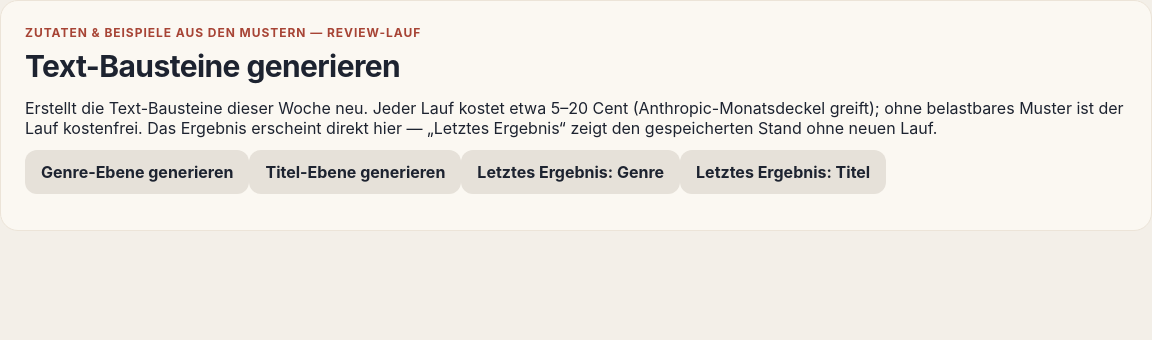
Test: BriefingSection › erklaert den kostenfreien Leerlauf ohne Muster
The image size is (1152, 340).
Click the button "Genre-Ebene generieren": click(137, 172) [25,150,250,194]
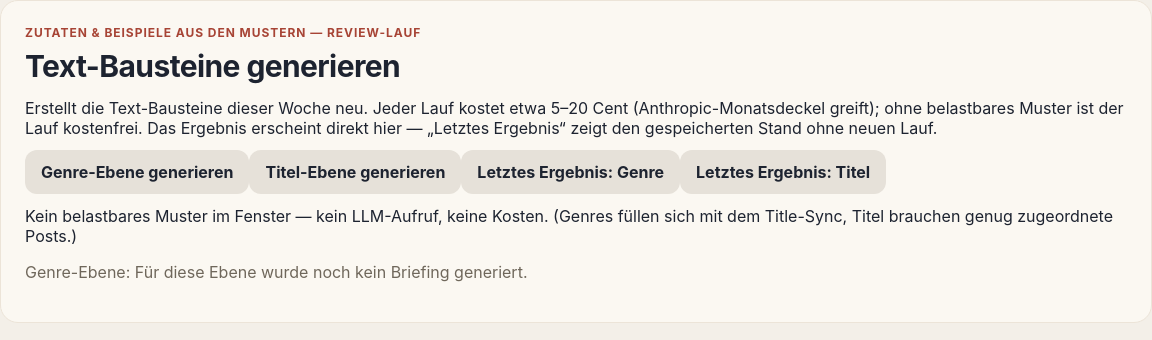
expect the text "kein LLM-Aufruf, keine Kosten" is shown: met, box [25,206,1113,246]
